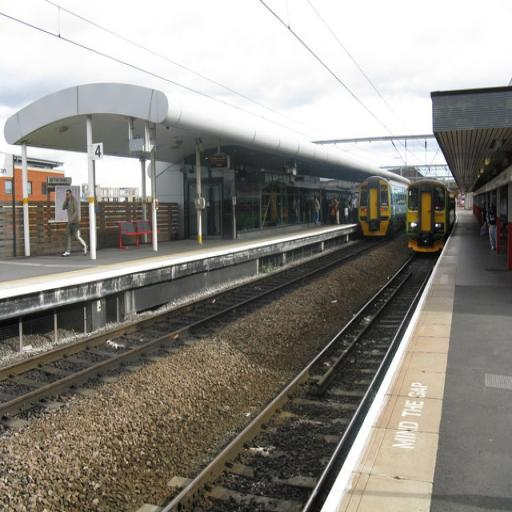platform_edge: (311, 238, 462, 512)
